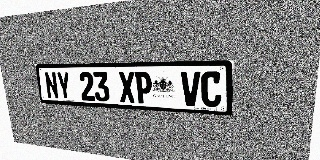2: (79, 72, 95, 101)
3: (93, 72, 110, 102)
C: (201, 71, 222, 107)
N: (44, 72, 59, 99)
P: (134, 72, 153, 104)
V: (181, 71, 200, 106)
X: (118, 72, 136, 103)
Y: (56, 72, 72, 100)
